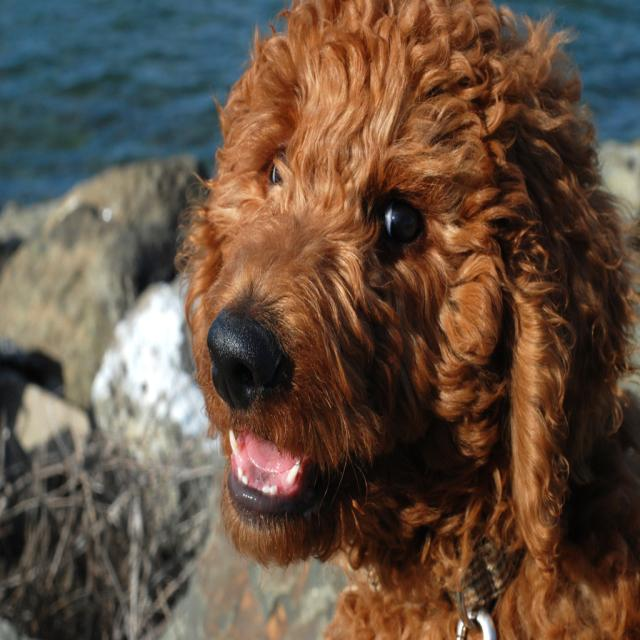Dog: (174, 0, 638, 638)
